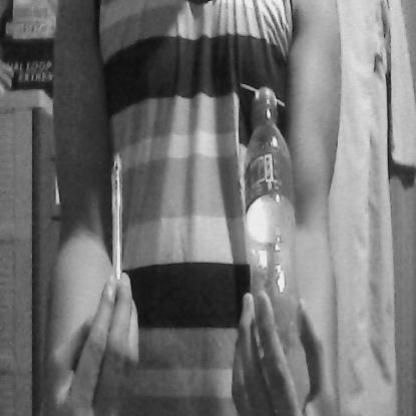Plastic Bottle: (235, 79, 307, 370)
